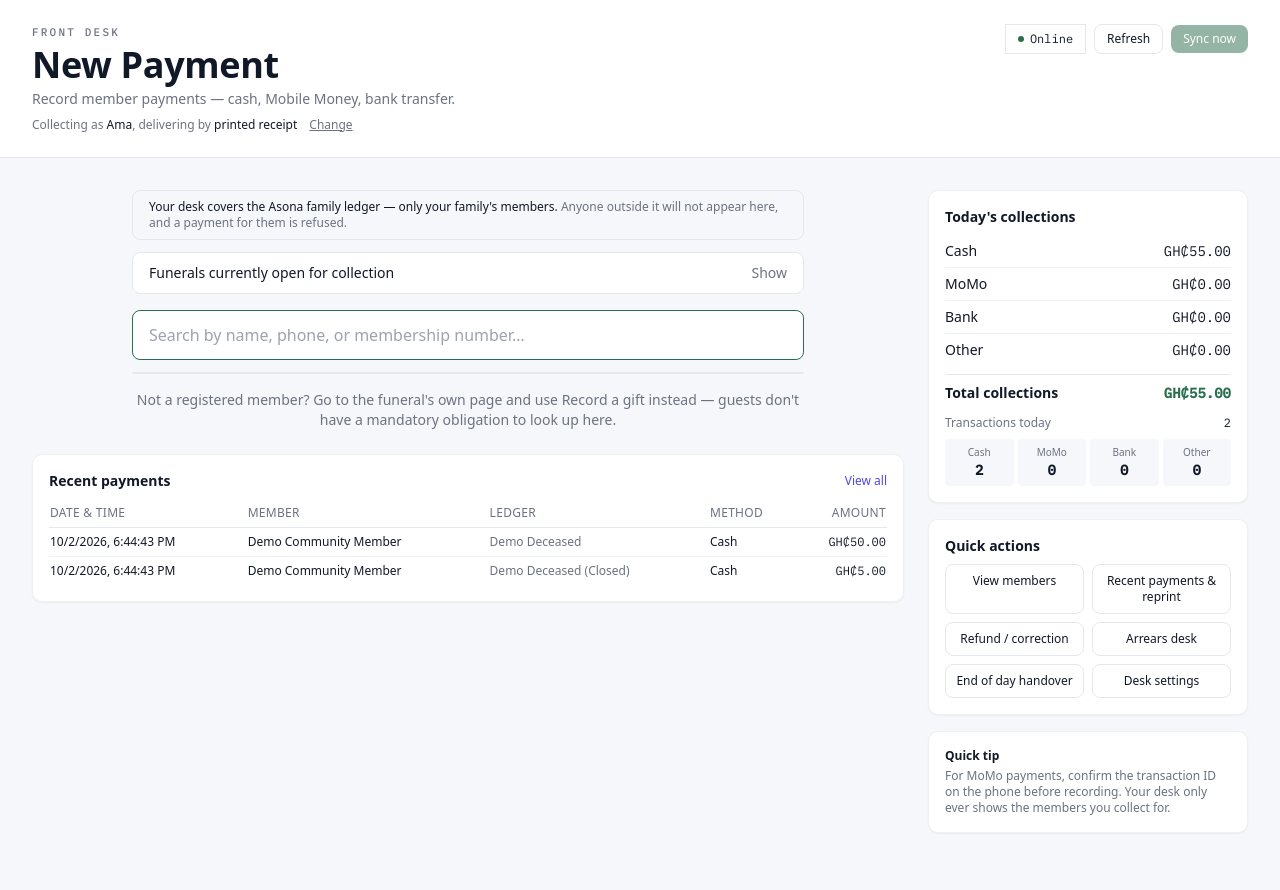
Test: Front Desk, cashier layout, real collector payload › shows today's collections by method, quick actions, and a member's account summary with the change calculation
Check: the text "Today's collections" is shown, box [945,206,1076,226]
Check: the text "Total collections" is shown, box [945,382,1058,402]
Type "Asona" into the field with placeholder "Search by name, phone, or membership number…" at (468, 334), box [132,310,804,360]
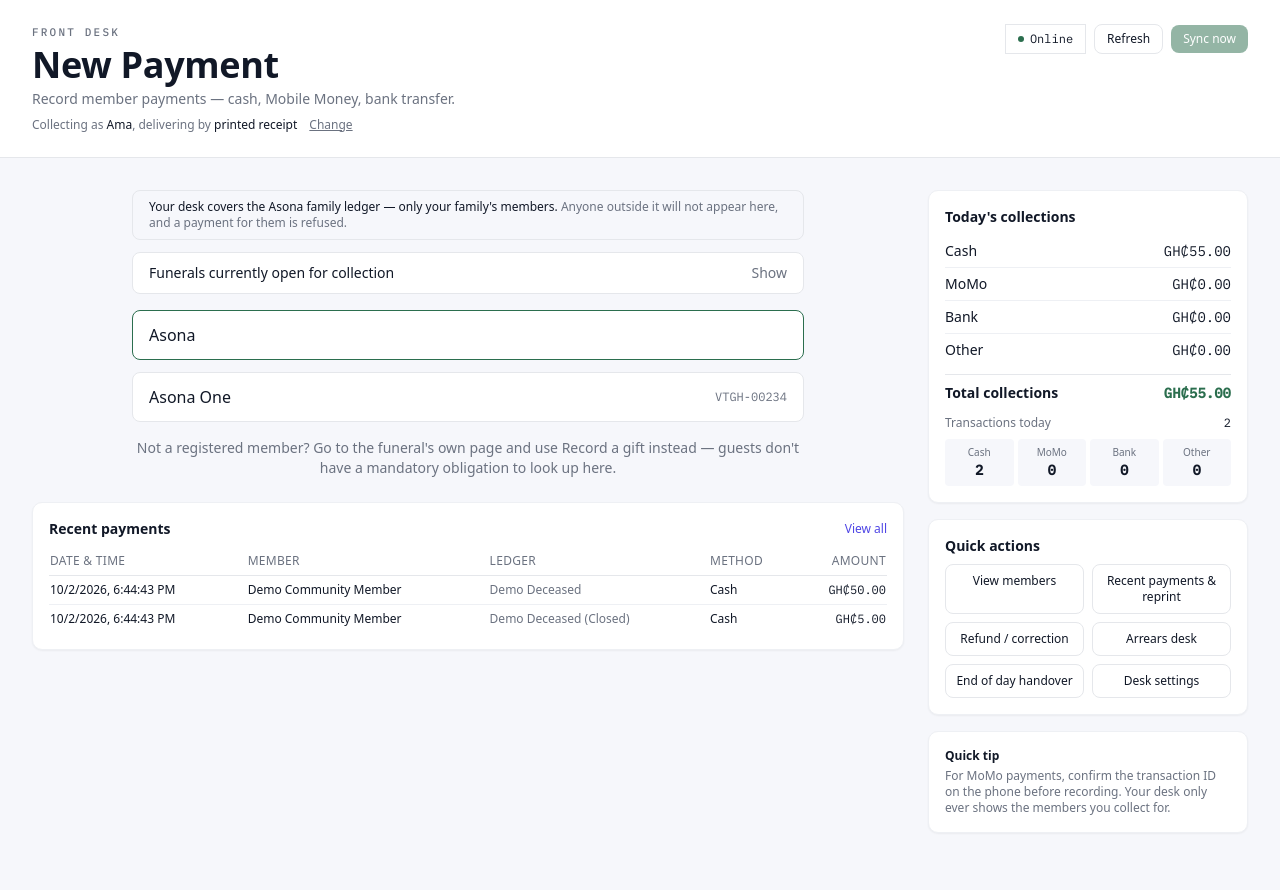
Click the text "Asona One" at (190, 396), box [149,384,231,408]
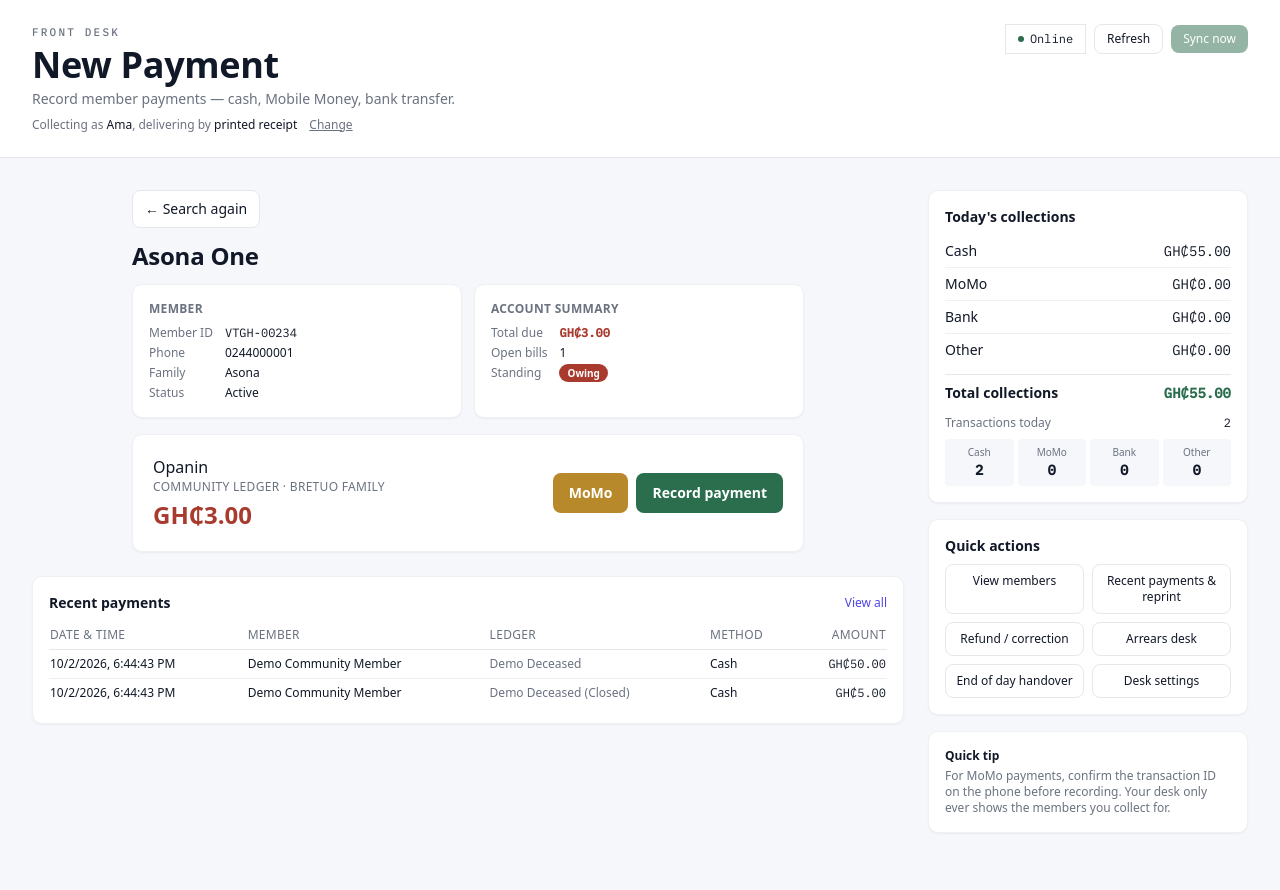
Check: the text "VTGH-00234" is shown, box [225,324,297,340]
Check: the text "Account summary" is shown, box [491,300,619,316]
Click the button "Record payment" at (710, 492), box [636,472,783,512]
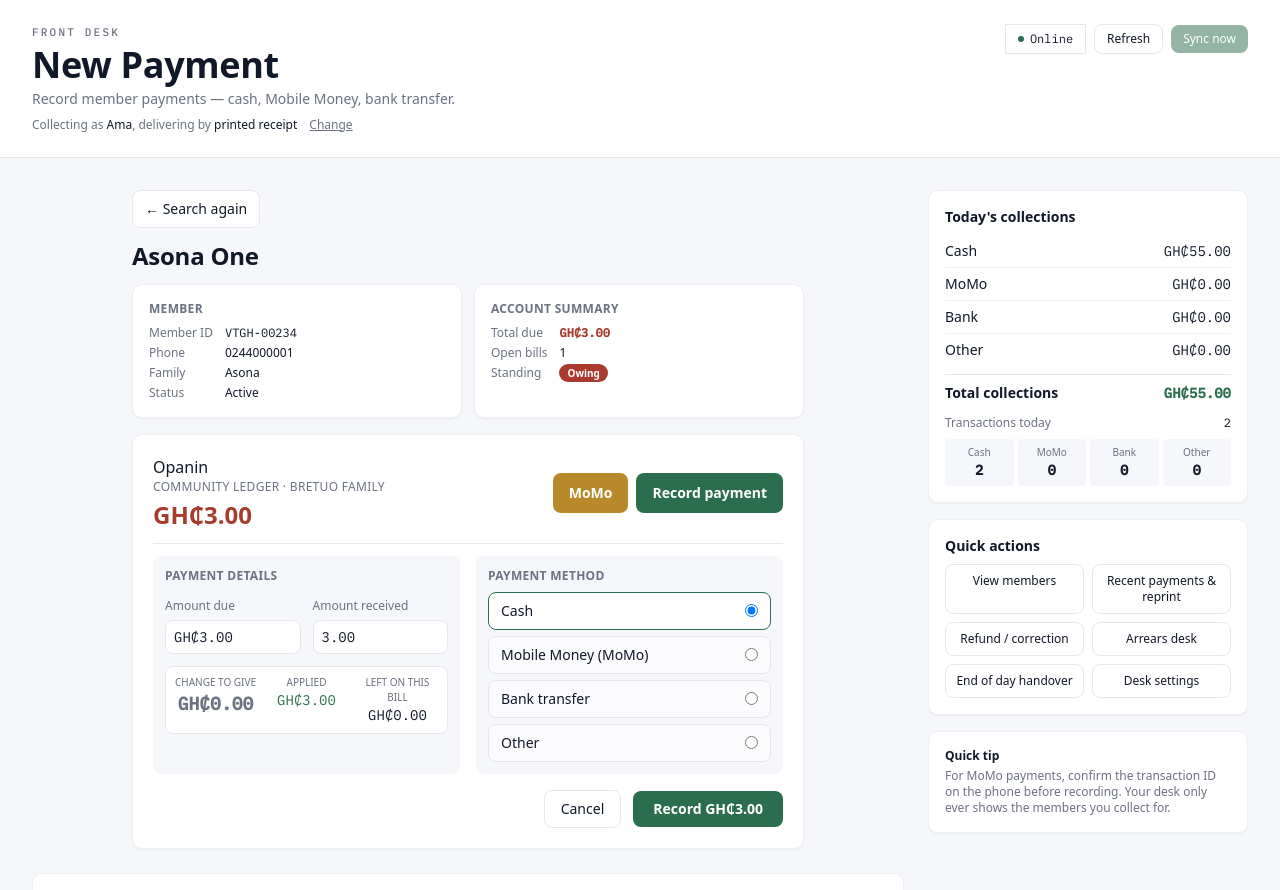
Check: the text "Payment details" is shown, box [165,566,277,584]
Check: the text "Mobile Money (MoMo)" is shown, box [501,644,648,664]
Replace the text in the number field showing "3.00" with "10" at (380, 636), box [312,620,448,654]
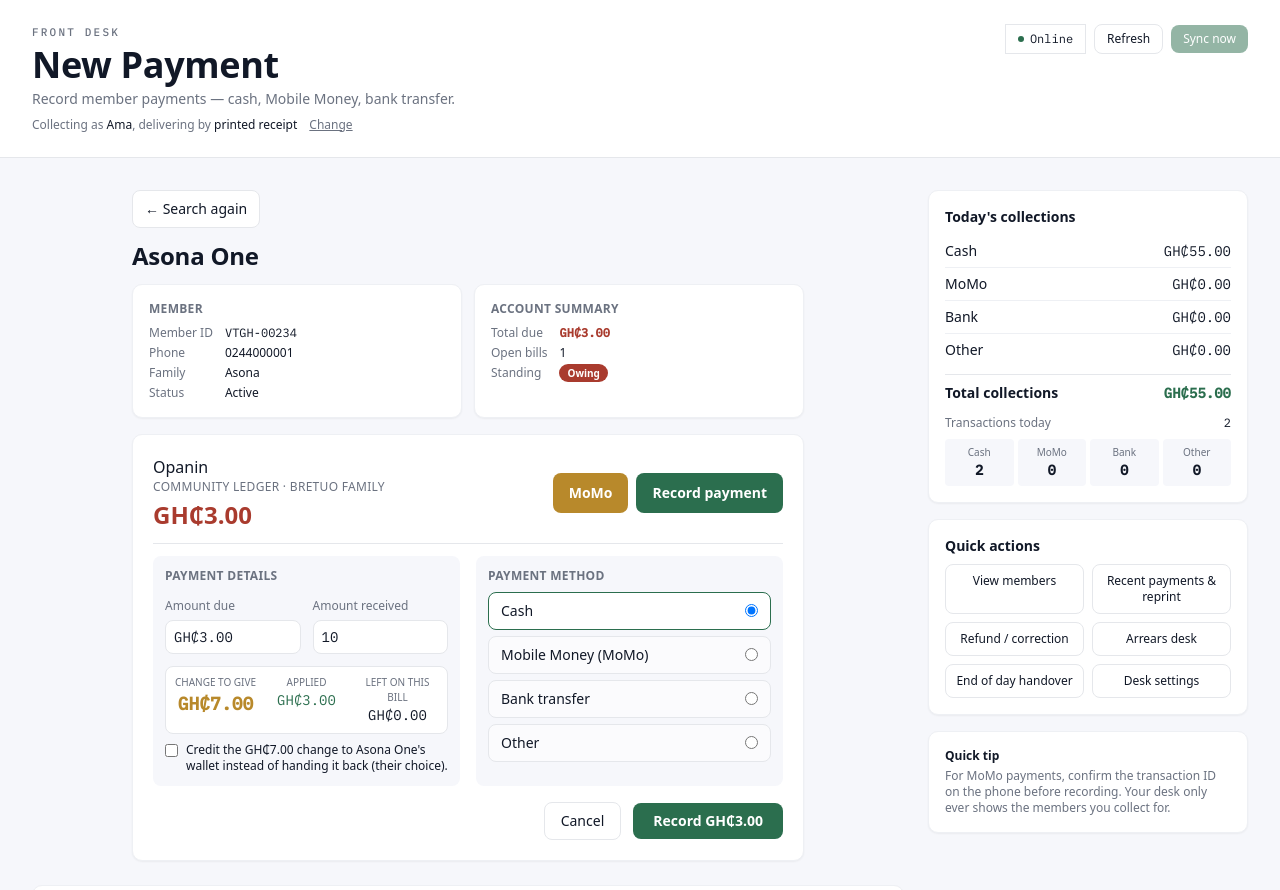
Check: the text "Credit the GH₵7.00 change" is shown, box [186,742,448,774]
